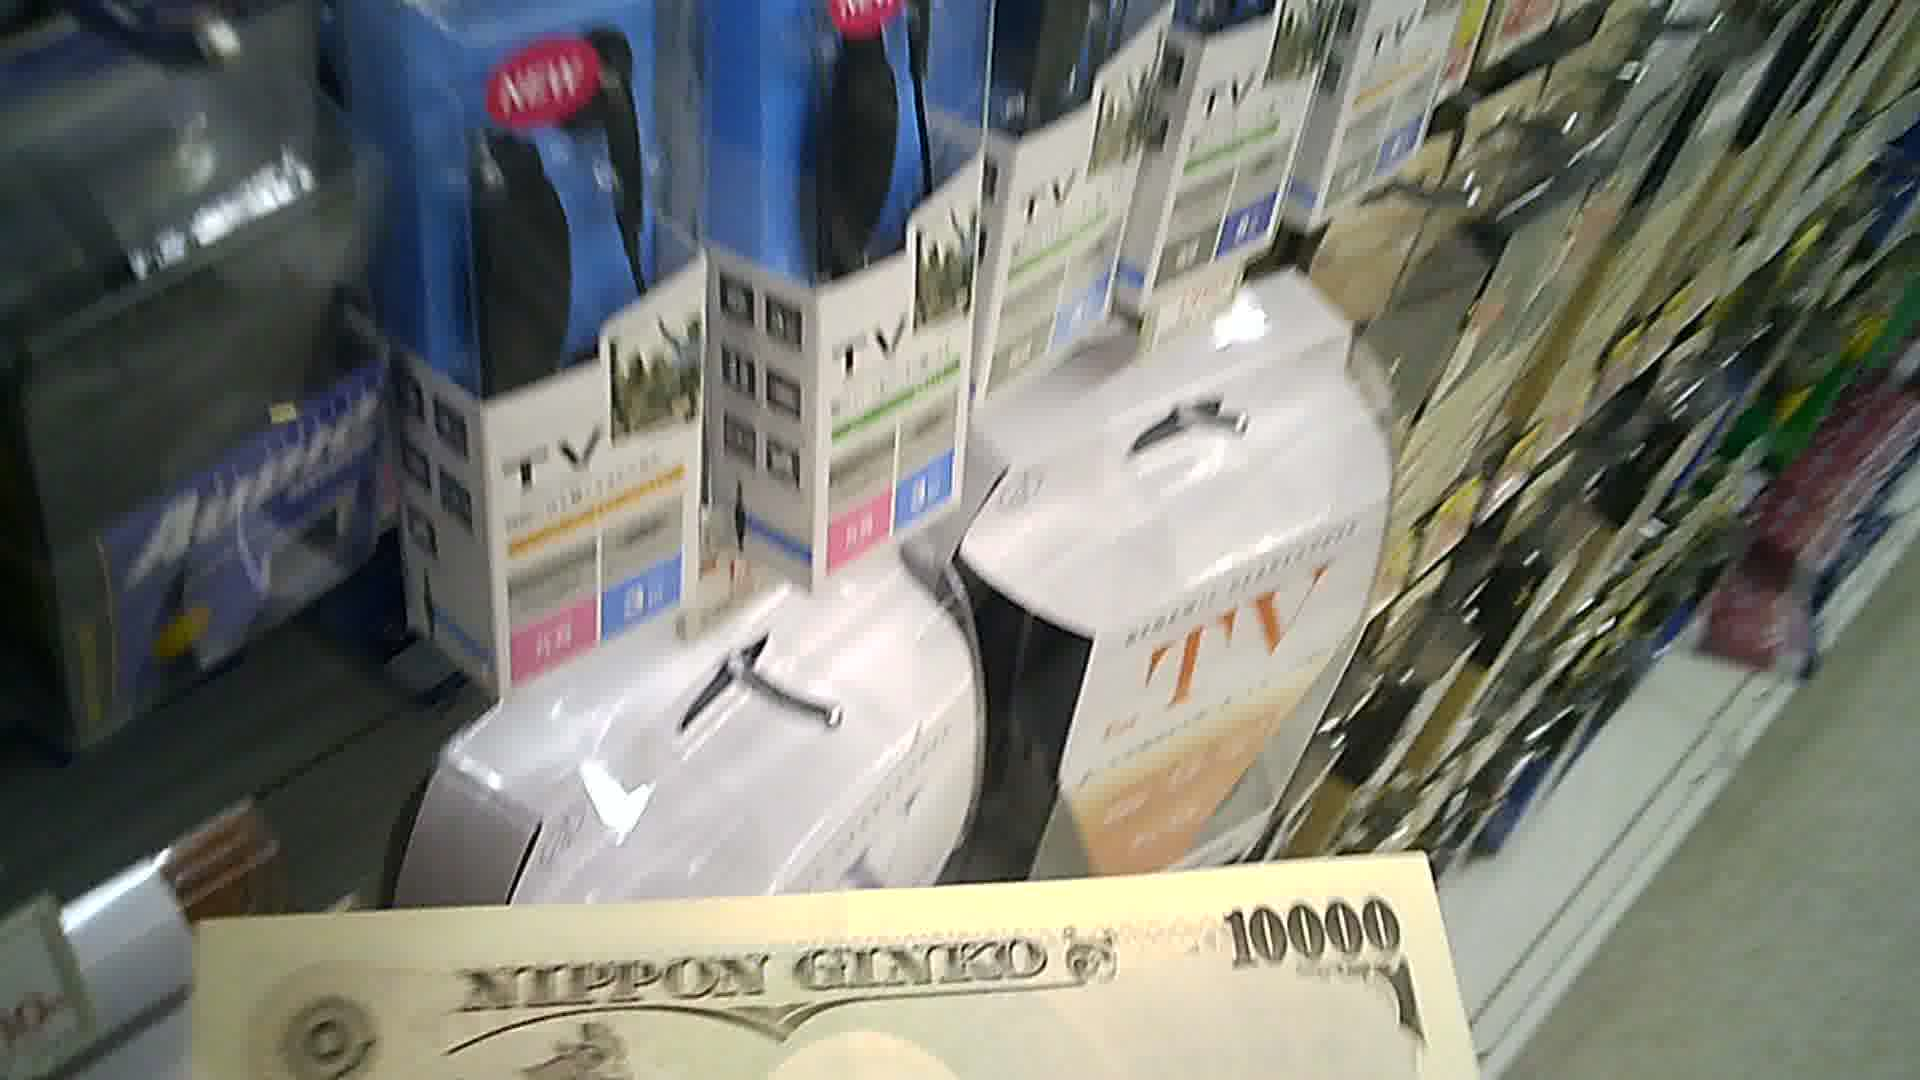10,000 Yen: (185, 837, 1497, 1077)
